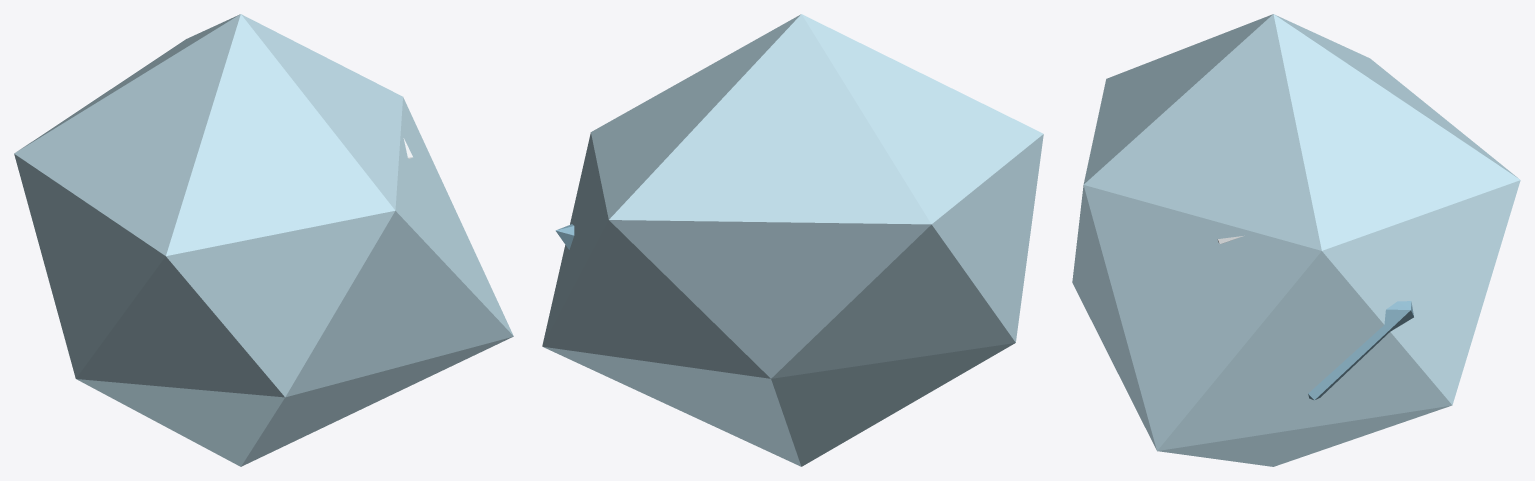
File: IceBlockA.glb
The picture shows the model from 3 angles, left to right: view 1: azimuth 30°, elevation 25°; view 2: azimuth 150°, elevation 25°; view 3: azimuth 270°, elevation 25°; orthographic projection.
Parts seen in each view (by area): view 1: Ice; view 2: Ice; view 3: Ice, Ice core.
Boxes of the visible parts, bbox=[...] form: Ice: bbox=[14, 14, 513, 466]; Ice: bbox=[542, 14, 1043, 466]; Ice: bbox=[1072, 14, 1520, 466]; Ice core: bbox=[1308, 301, 1413, 400].
Bounding box in the file's own units: 2.13 × 2.28 × 2.05.
